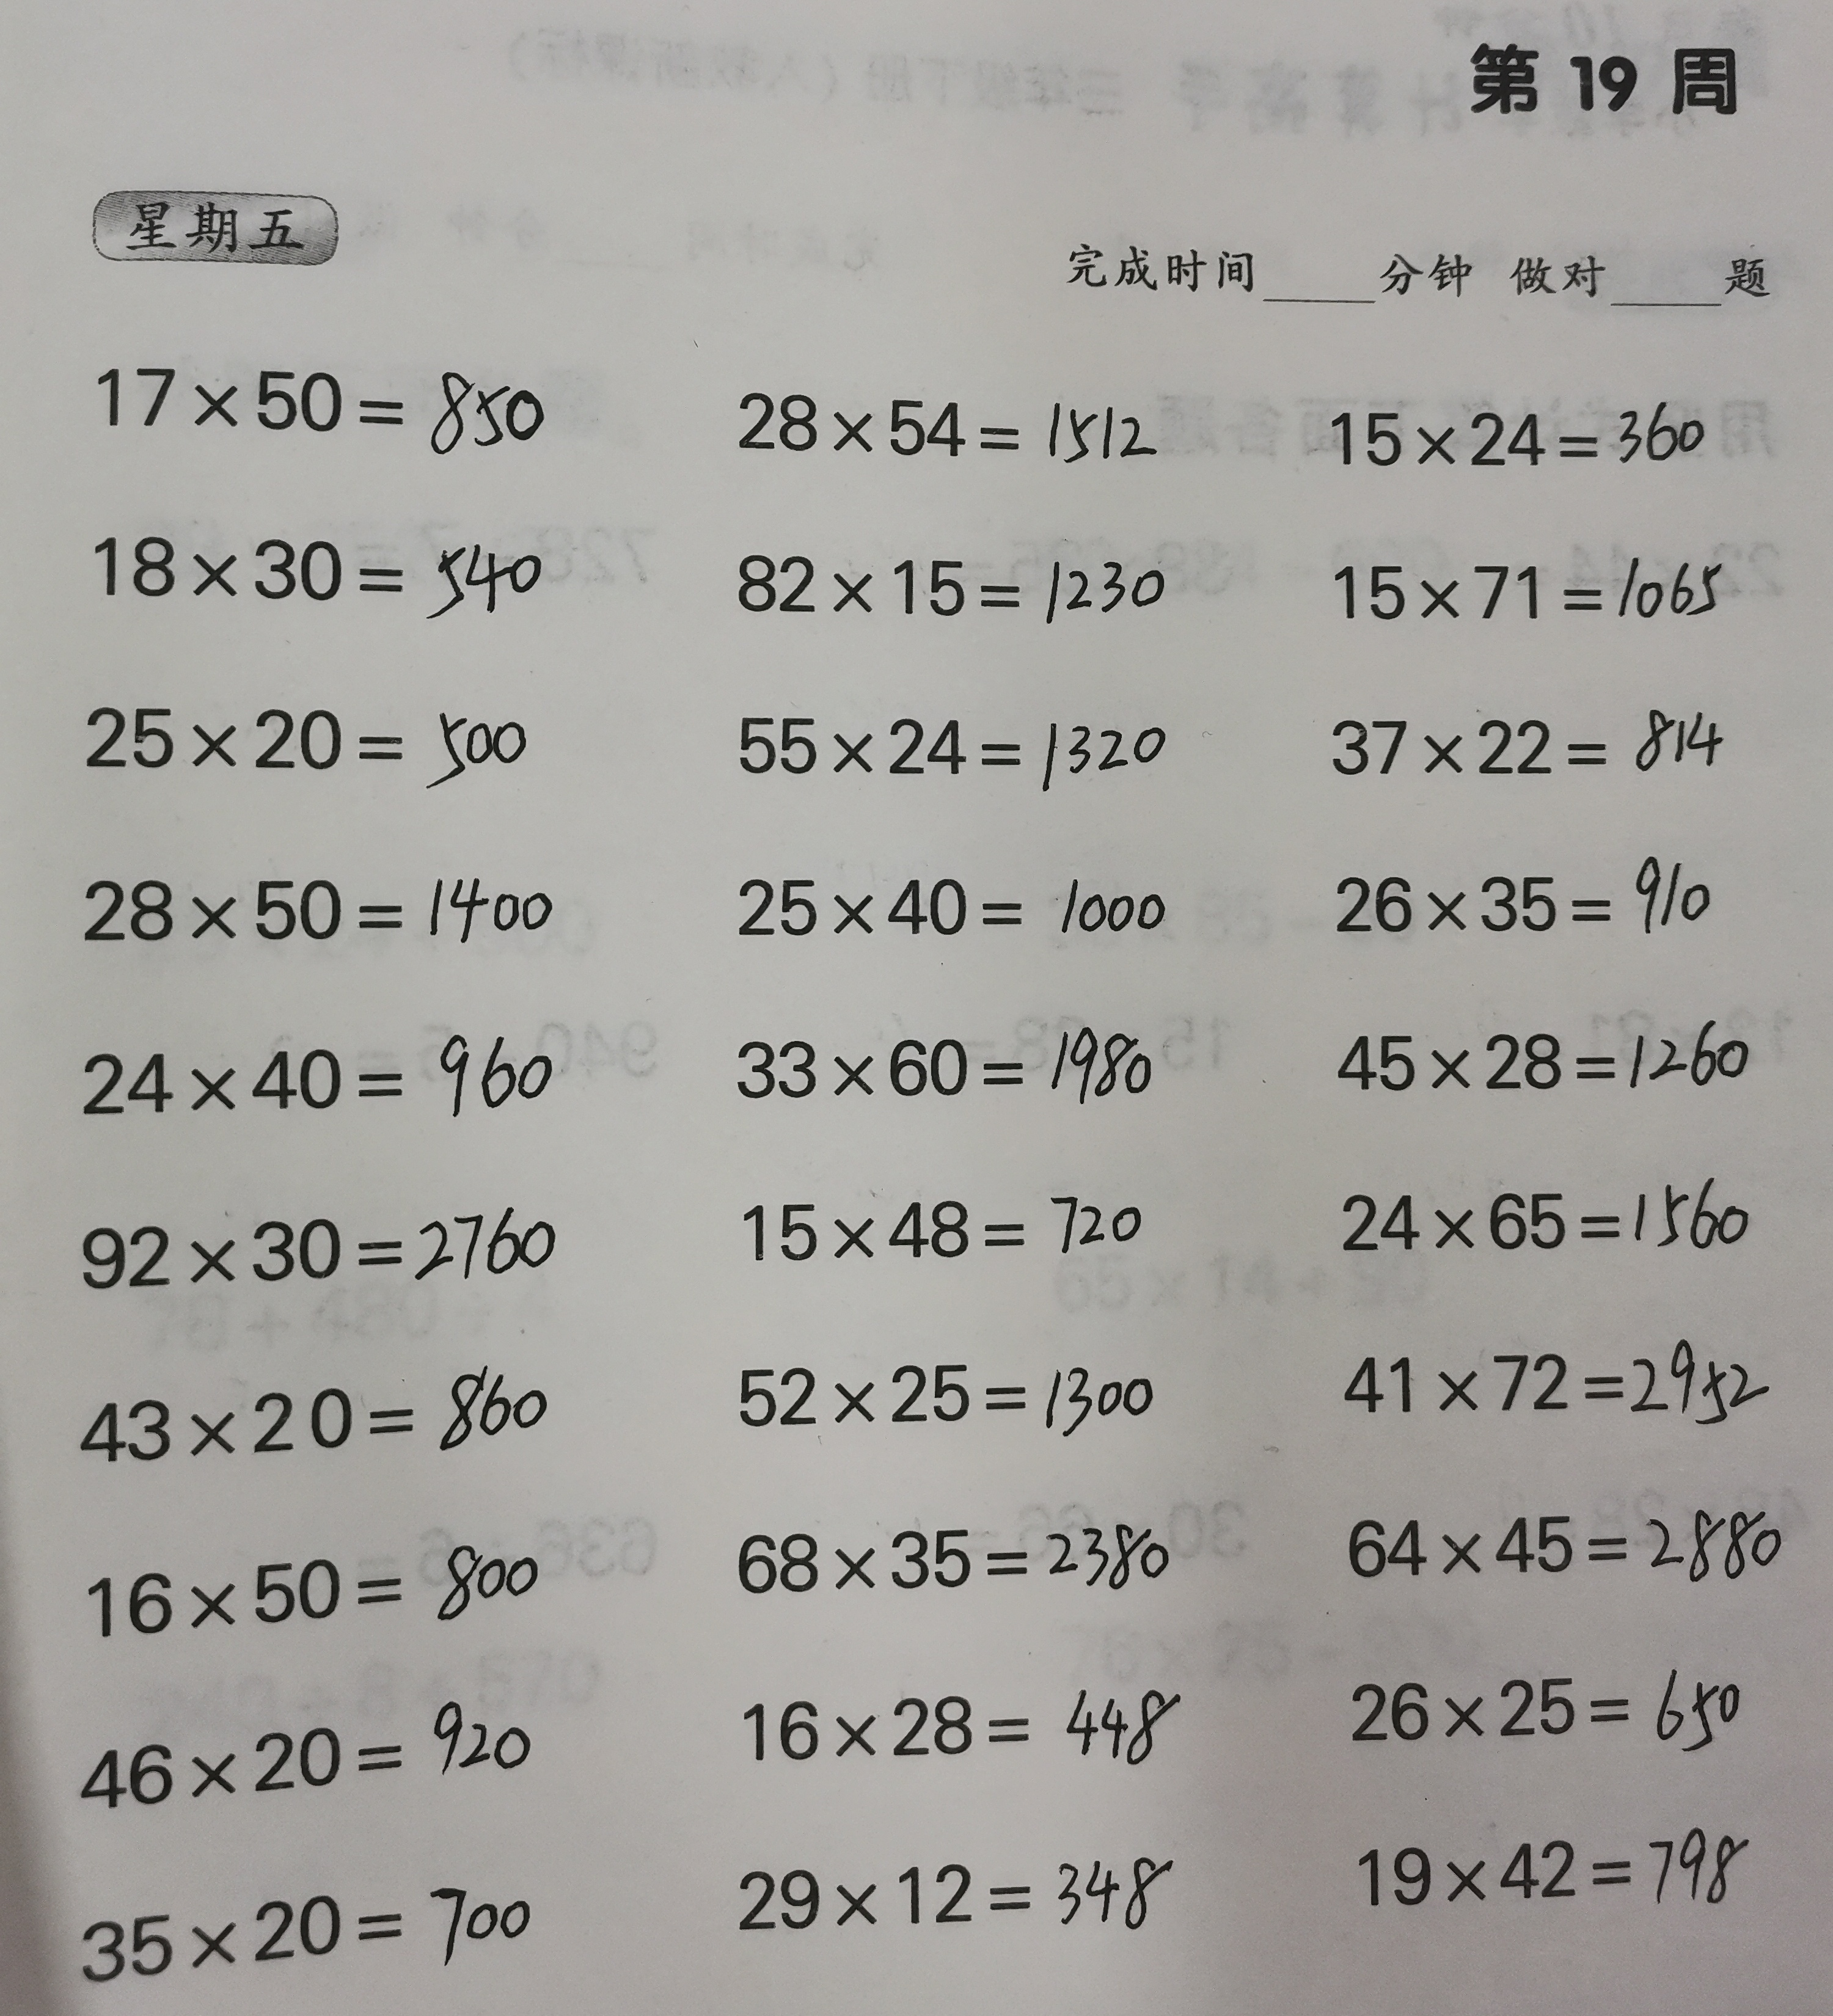equation: (54, 1675, 550, 1828), (72, 1510, 560, 1651), (68, 1858, 555, 1993), (68, 1349, 576, 1477), (1319, 1484, 1810, 1610), (56, 1182, 581, 1300), (65, 841, 581, 961), (65, 1010, 578, 1129), (72, 341, 564, 464), (720, 1152, 1171, 1285), (1320, 1317, 1796, 1444), (706, 1819, 1199, 1939), (68, 669, 539, 794), (711, 1665, 1194, 1786), (720, 1328, 1175, 1456), (1327, 1642, 1780, 1768), (1306, 676, 1756, 801), (725, 1494, 1194, 1614), (722, 365, 1176, 488), (716, 685, 1197, 801), (725, 994, 1185, 1115), (1333, 1807, 1789, 1926), (84, 513, 565, 625), (1310, 358, 1728, 486), (1322, 1154, 1789, 1268), (722, 525, 1176, 639), (722, 850, 1180, 962), (1313, 532, 1743, 643), (1317, 831, 1735, 941), (1324, 1008, 1770, 1106)
